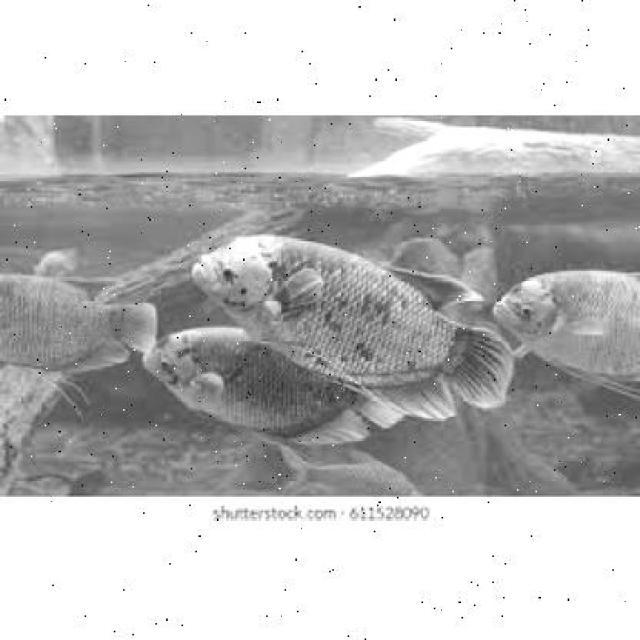gurame: (192, 221, 486, 401), (0, 264, 163, 388), (493, 264, 639, 376)
